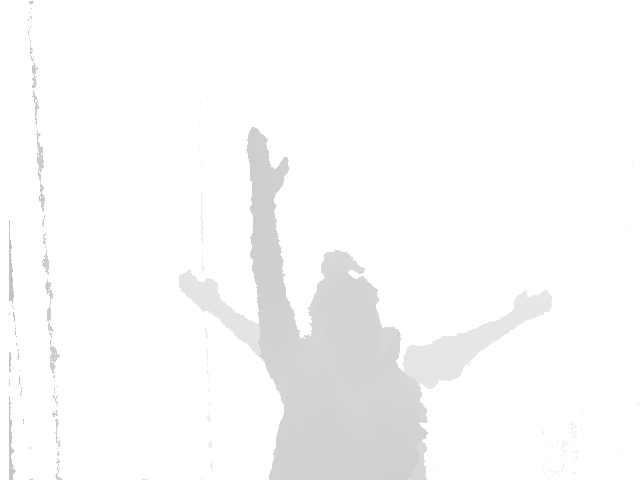hand: (246, 125, 290, 203), (179, 270, 219, 316), (512, 289, 553, 324)
head: (310, 251, 381, 350)
person: (245, 124, 430, 480), (179, 270, 553, 390)
